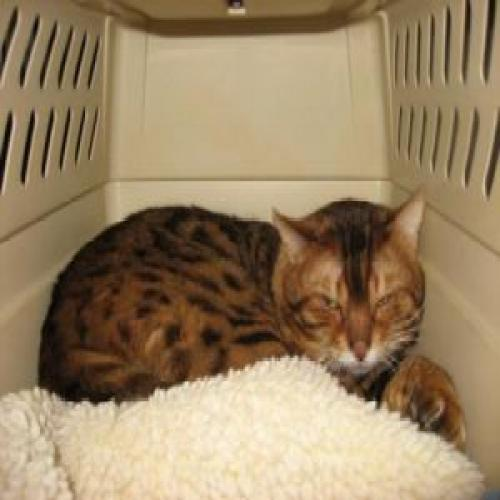bengal: (266, 185, 440, 392)
